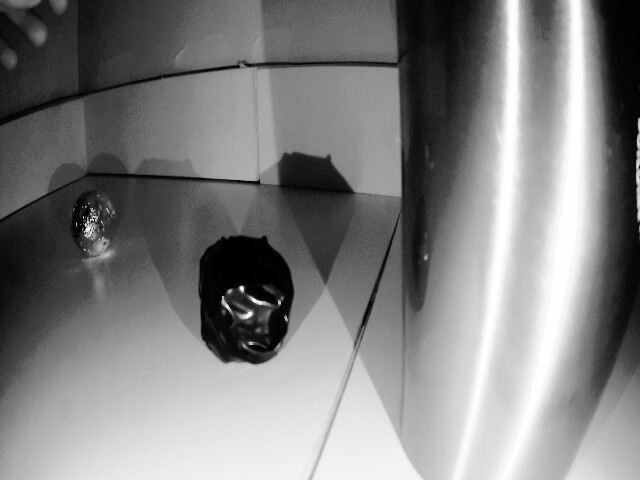black: (71, 192, 118, 264)
silver: (192, 233, 292, 369)
